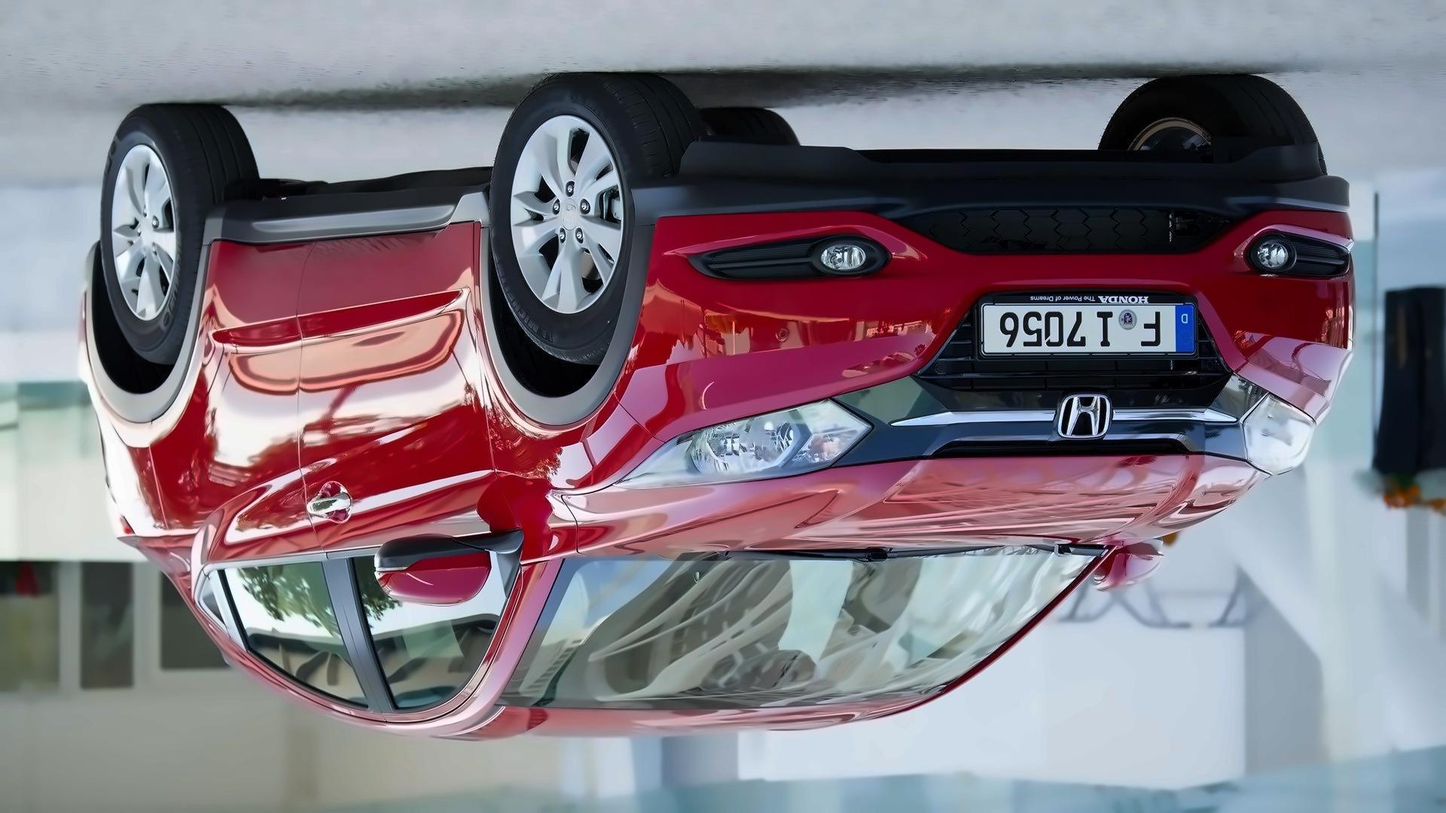Car hood: (558, 446, 1282, 573)
Fender - -F-L-: (465, 211, 671, 576)
Fender - -R-L-: (102, 360, 238, 527)
Front bumper: (616, 160, 1366, 419)
Headlight - -L-: (616, 390, 883, 503)
Headlight - -R-: (1237, 382, 1333, 486)
Passenger-s door - -F-L-: (305, 213, 535, 728)
Passenger-s door - -R-L-: (149, 228, 380, 728)
Rear bumper: (62, 219, 128, 433)
Side bumper - -L-: (188, 160, 505, 250)
Side mirror - -L-: (352, 525, 508, 612)
Side mirror - -R-: (1092, 541, 1169, 609)
